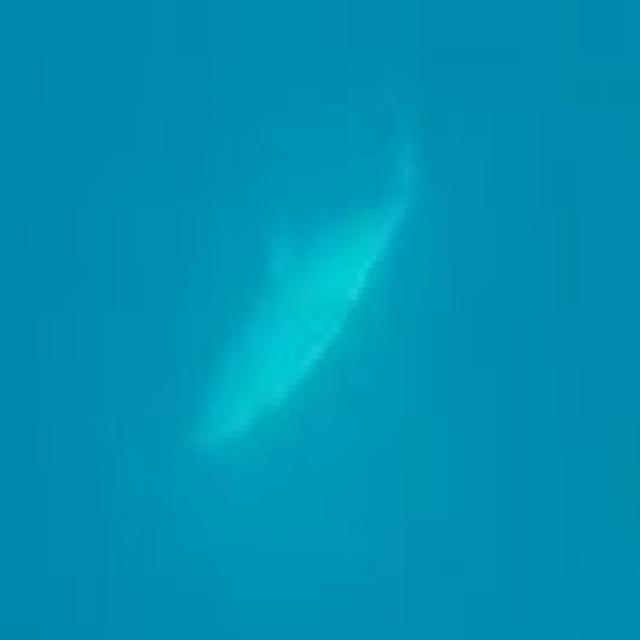Bangus: (156, 150, 496, 460)
